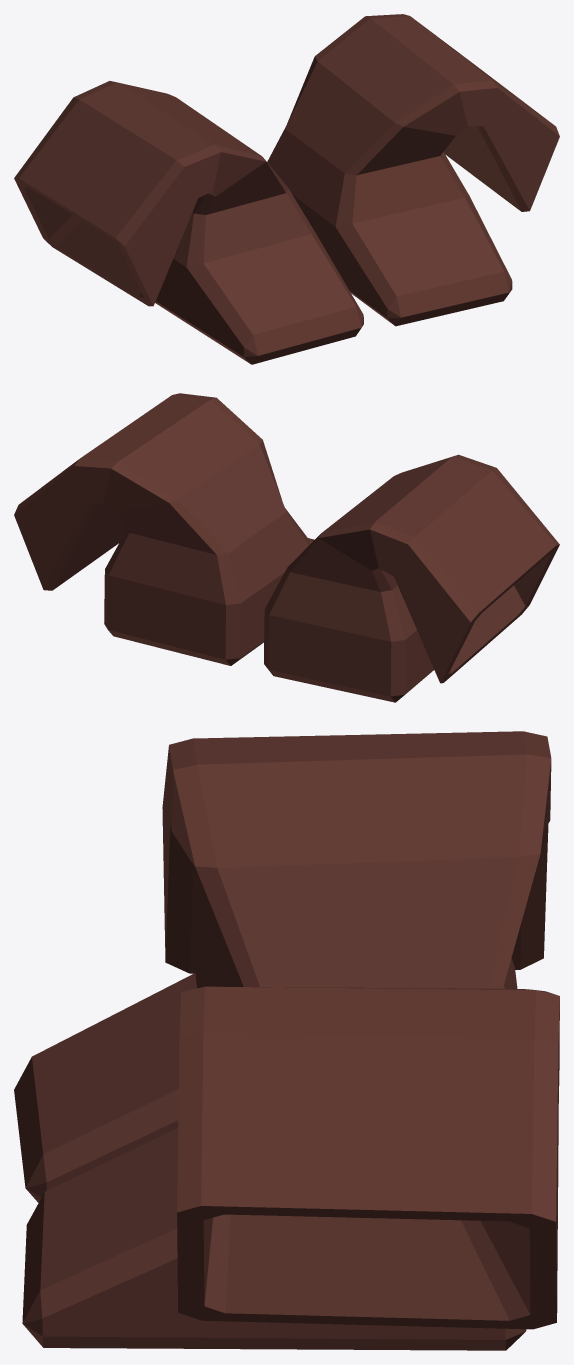
File: shoes_3.fbx
3 views of the same model, one above another, from view 1: azimuth 30°, elevation 25°; view 2: azimuth 150°, elevation 25°; view 3: azimuth 270°, elevation 25° (orthographic). The views are drawn at different scales.
Visible parts, largest first — view 1: shoes_3; view 2: shoes_3; view 3: shoes_3.
Boxes of the visible parts, x1,y1,x2,y2 form: shoes_3: (14, 14, 559, 364); shoes_3: (14, 393, 559, 702); shoes_3: (14, 731, 559, 1350).
Bounding box in the file's own units: 33.92 × 13.3 × 18.52.
